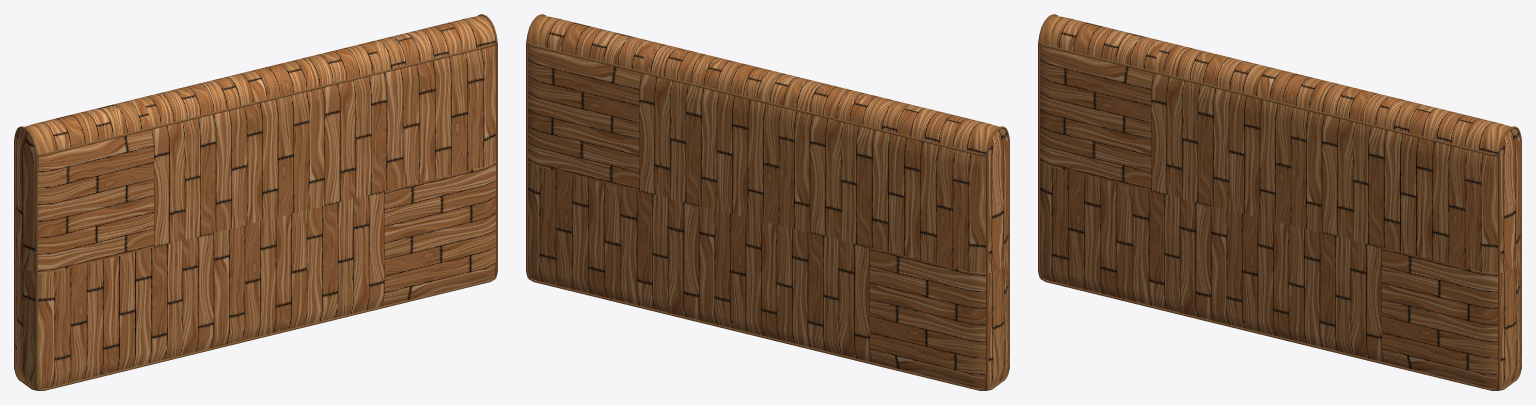
Rendered from SM_BallPit_Side_2m.fbx.
3 views of the same model, side by side, from view 1: azimuth 30°, elevation 25°; view 2: azimuth 150°, elevation 25°; view 3: azimuth 330°, elevation 25° (orthographic).
Parts seen in each view (by area): view 1: SM_BallPit_Side_2M; view 2: SM_BallPit_Side_2M; view 3: SM_BallPit_Side_2M.
Boxes of the visible parts, box(x1,y1,x2,y2) form: SM_BallPit_Side_2M: box(14, 14, 497, 390); SM_BallPit_Side_2M: box(526, 14, 1009, 390); SM_BallPit_Side_2M: box(1038, 14, 1521, 390).
Size of the model in its own units: 203 by 108 by 20.
